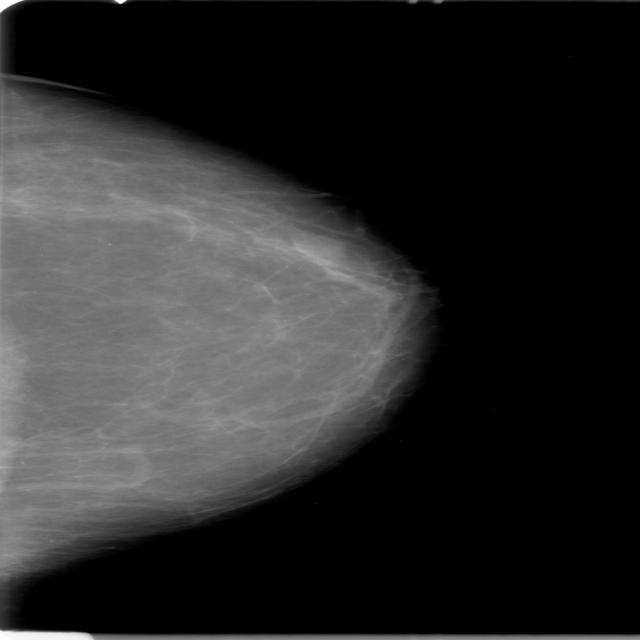normal: (0, 72, 446, 555)
